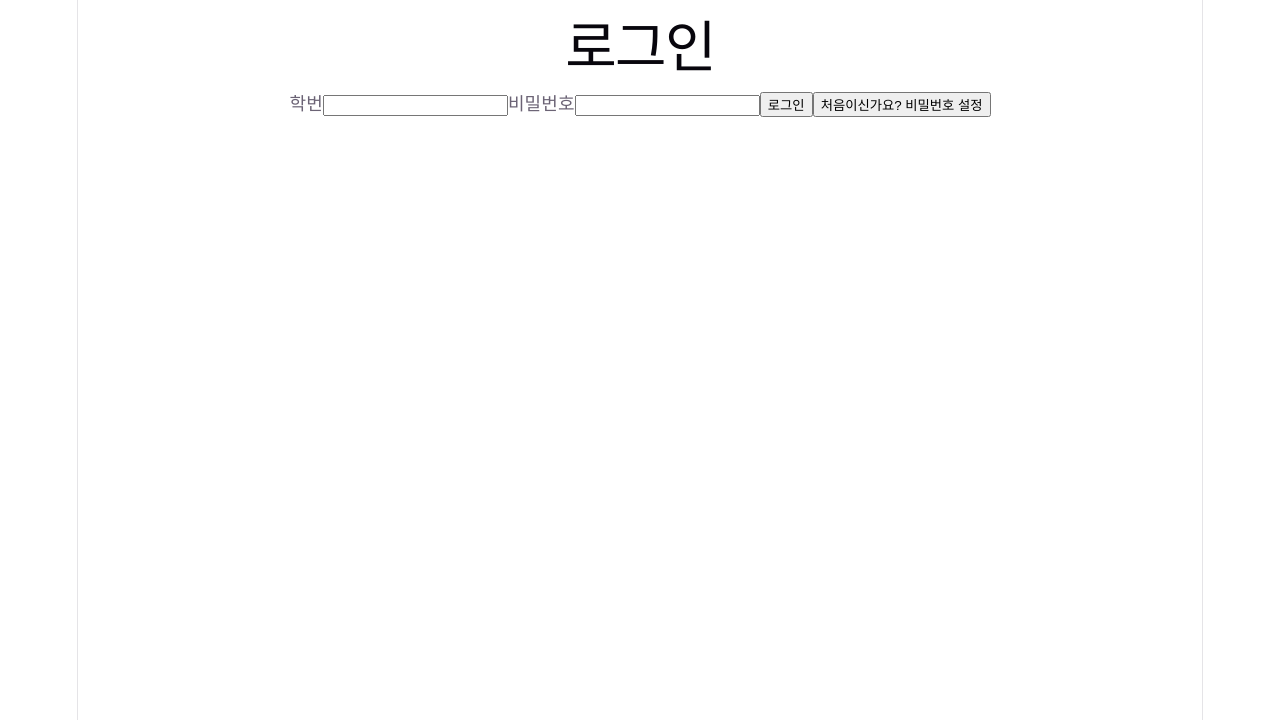
Test: App › 비밀번호 미설정 회원은 첫 비밀번호 설정 페이지로 이동한다
Type "20240002" into the field labelled "학번". click: (415, 106)
box: [323,95,508,116]
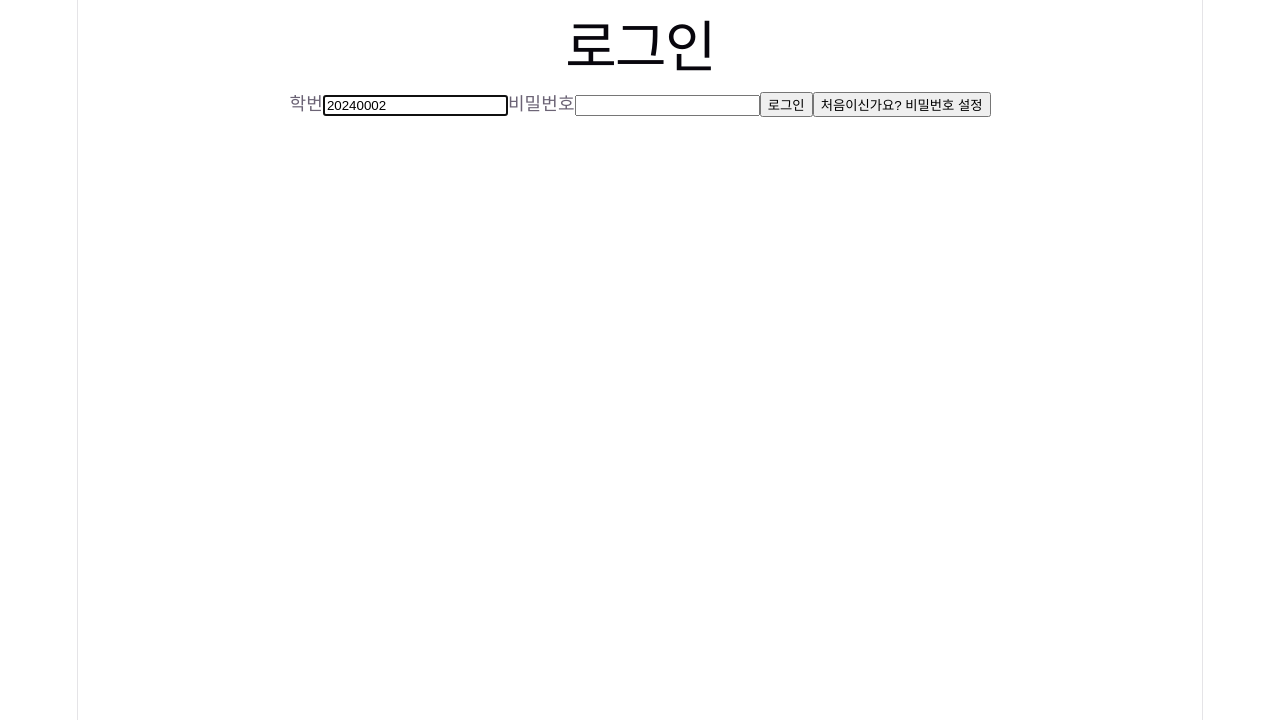
Type "whatever123" into the password field labelled "비밀번호". click: (667, 106)
box: [575,95,760,116]
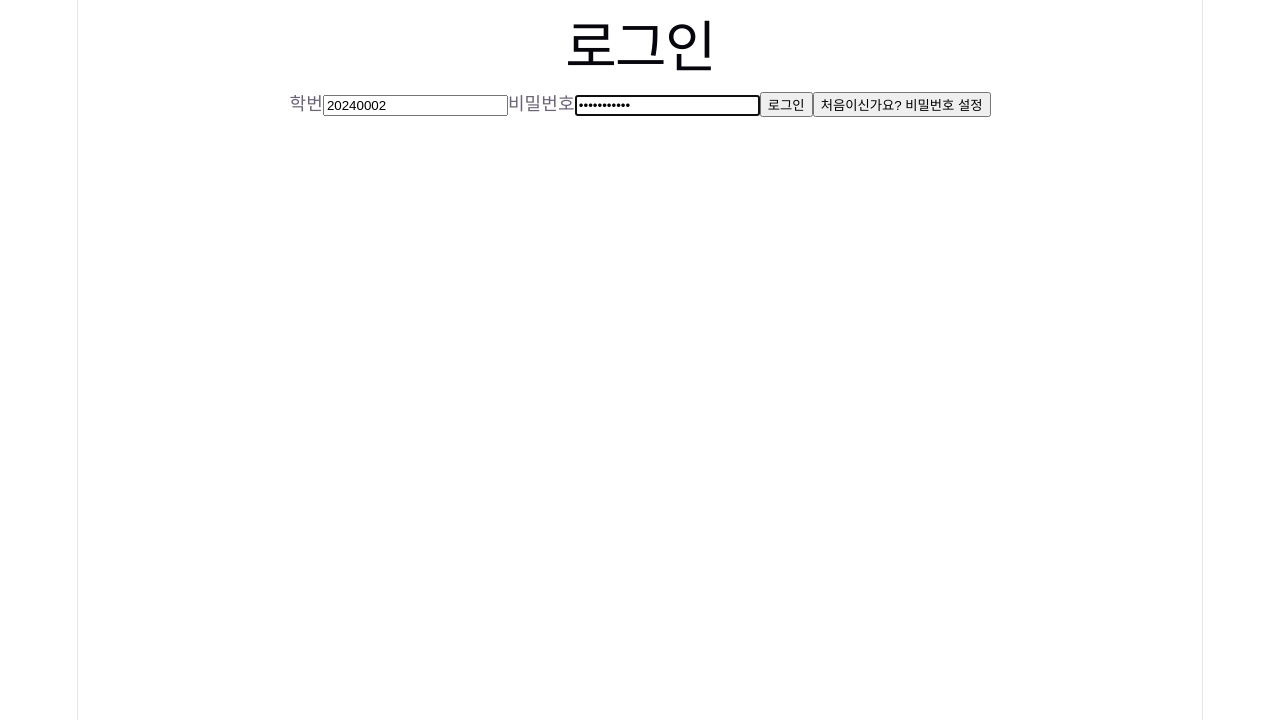
Click the button "로그인". click: click(786, 105)
box: [760,92,813,117]
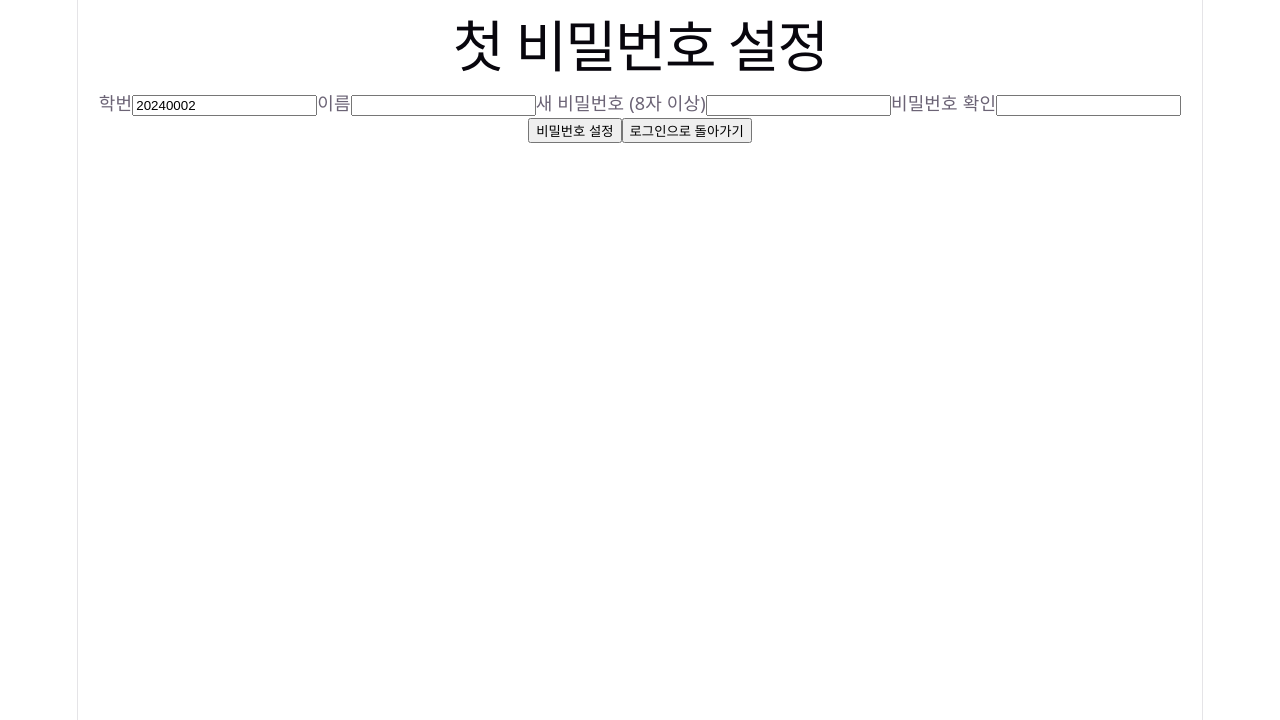
expect the heading "첫 비밀번호 설정" is shown: met, box [453,7,827,83]
